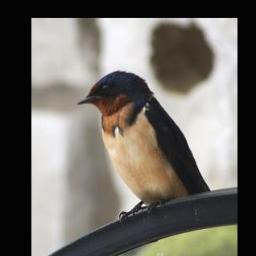Swallow: (76, 69, 213, 224)
